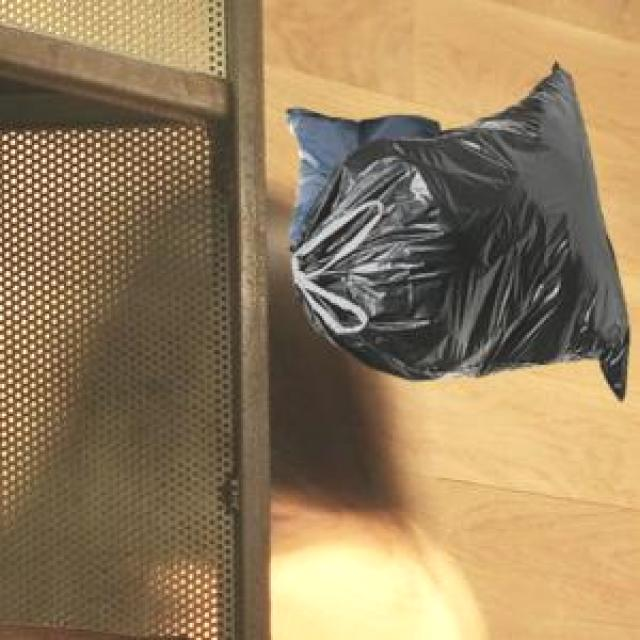Trashbag: (287, 53, 639, 415)
